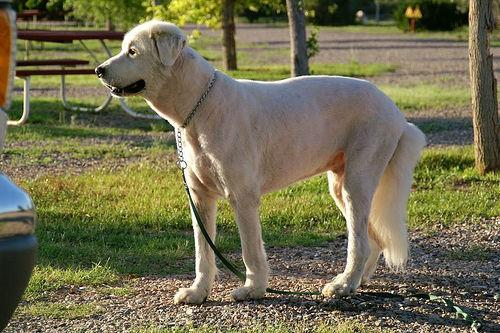Great_Pyrenees: (96, 18, 428, 302)
